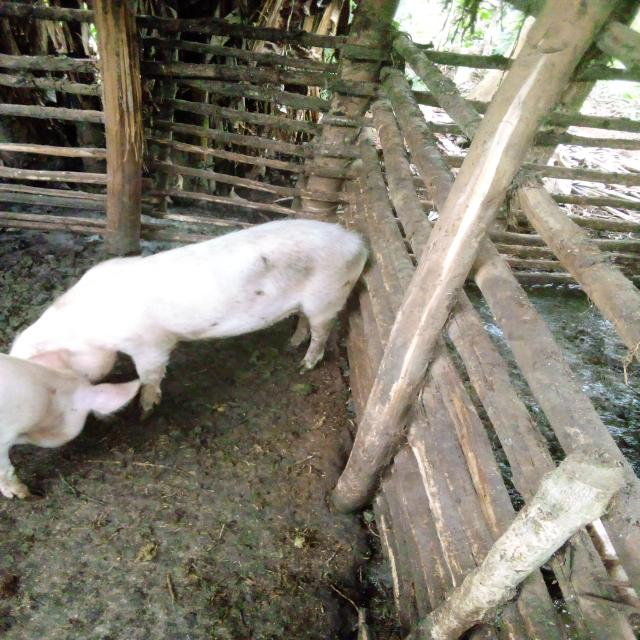pig: (0, 140, 417, 447)
